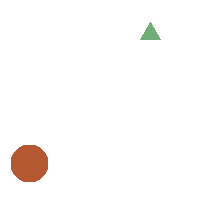circle: (11, 145, 47, 181)
triangle: (140, 22, 160, 39)
